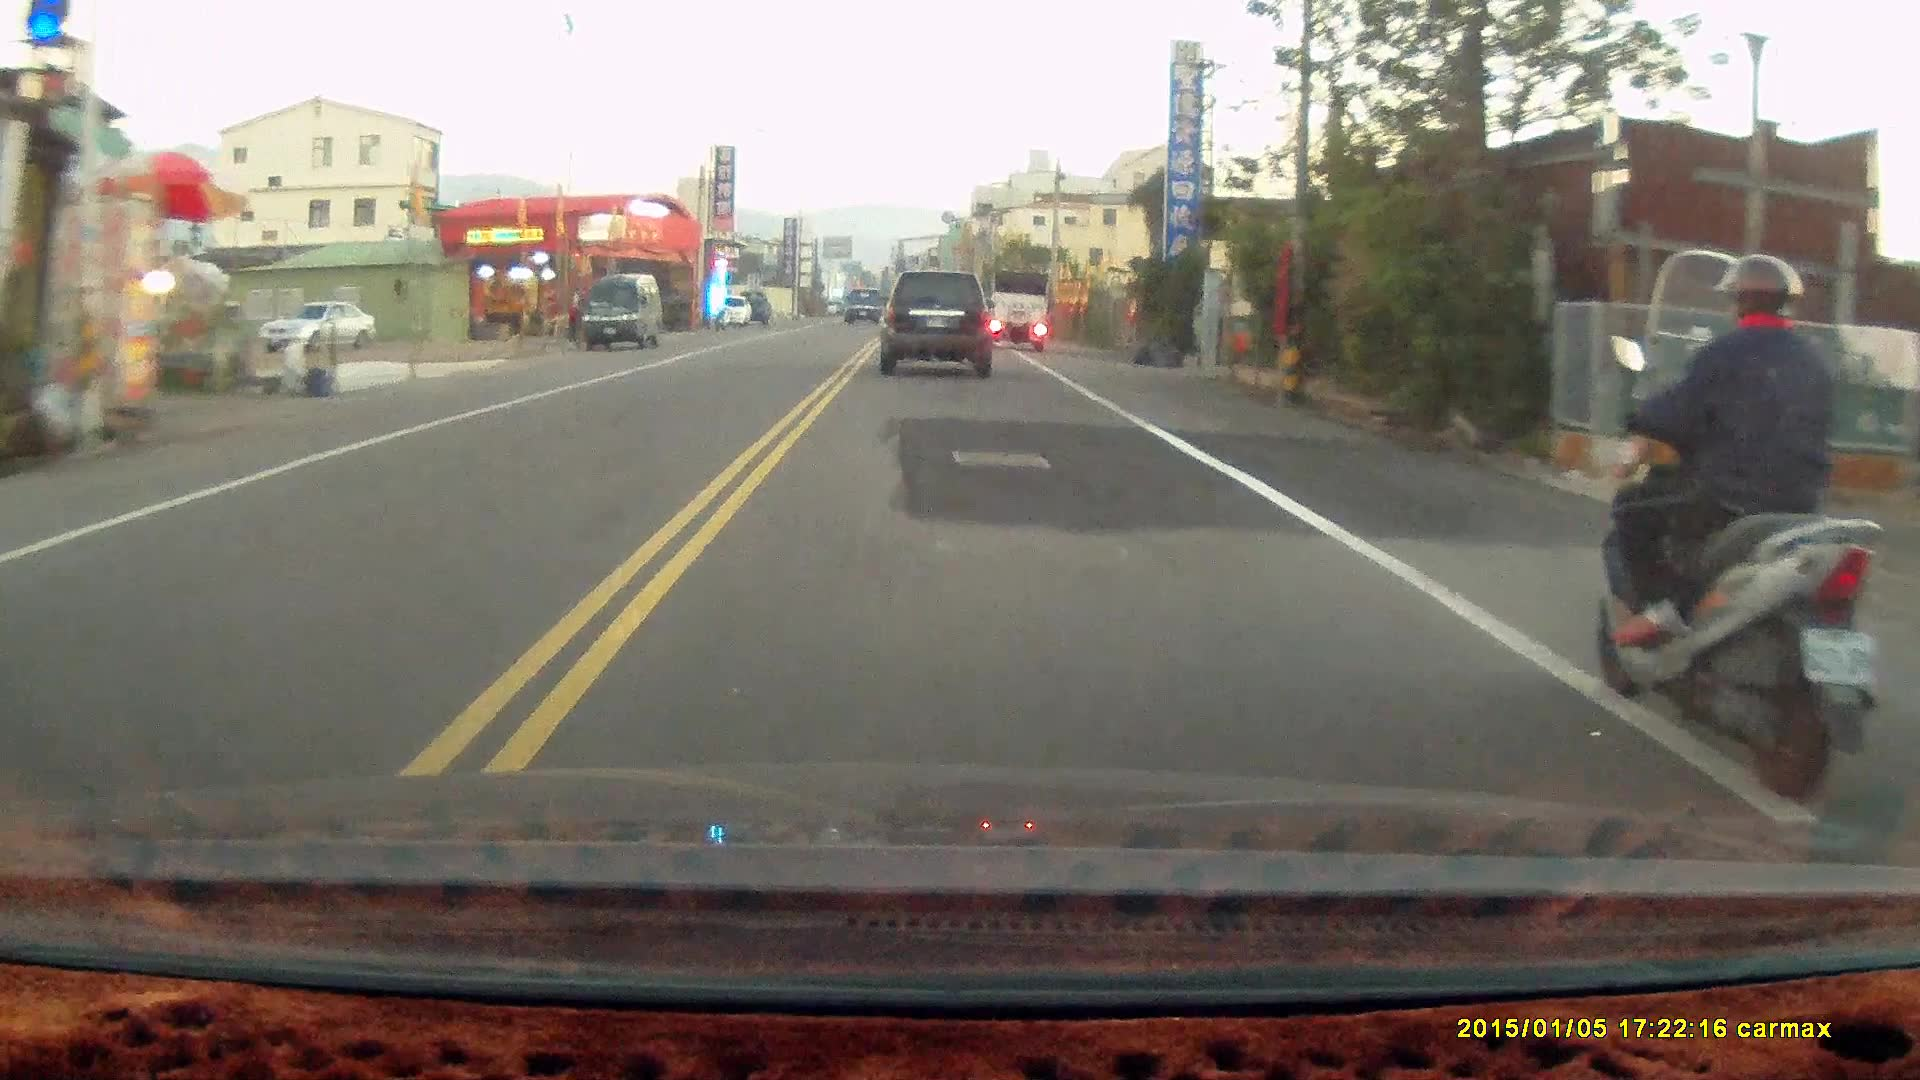rider: (1592, 250, 1874, 796)
vehicle: (880, 273, 999, 380), (581, 274, 664, 353), (259, 302, 376, 357), (989, 271, 1052, 353)
